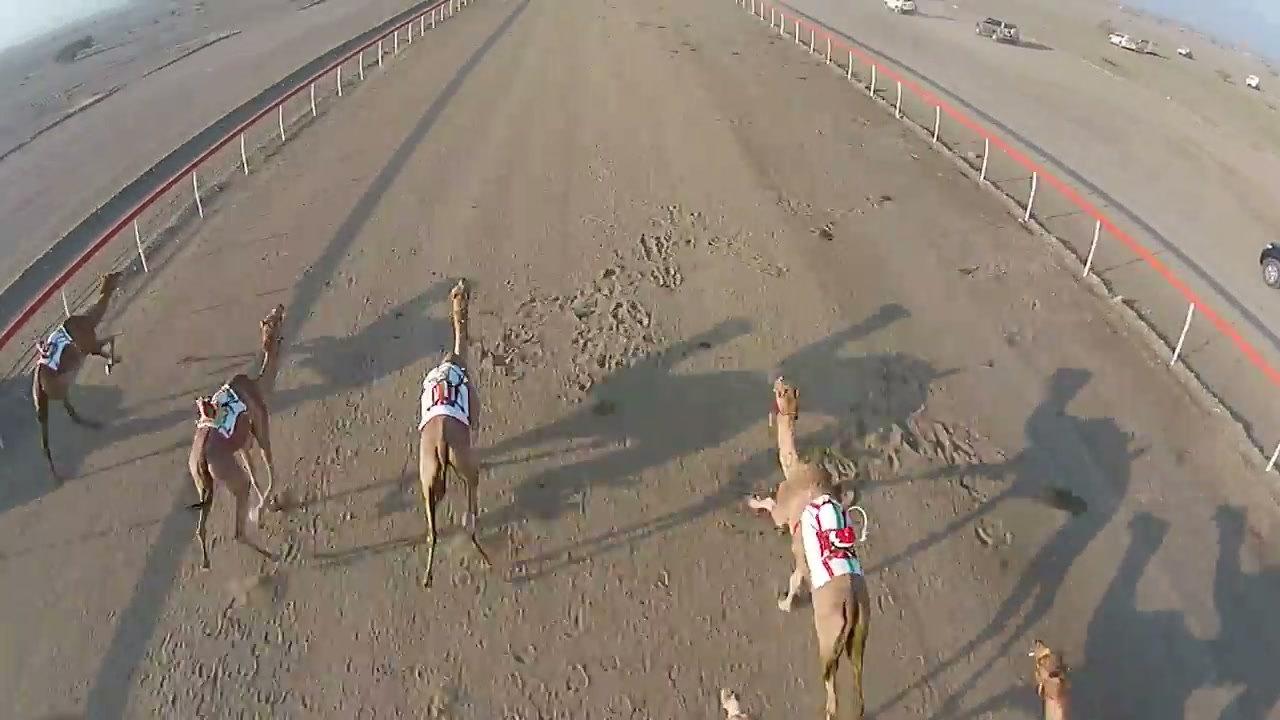animal_footprint: (129, 506, 344, 715), (395, 553, 517, 717)
